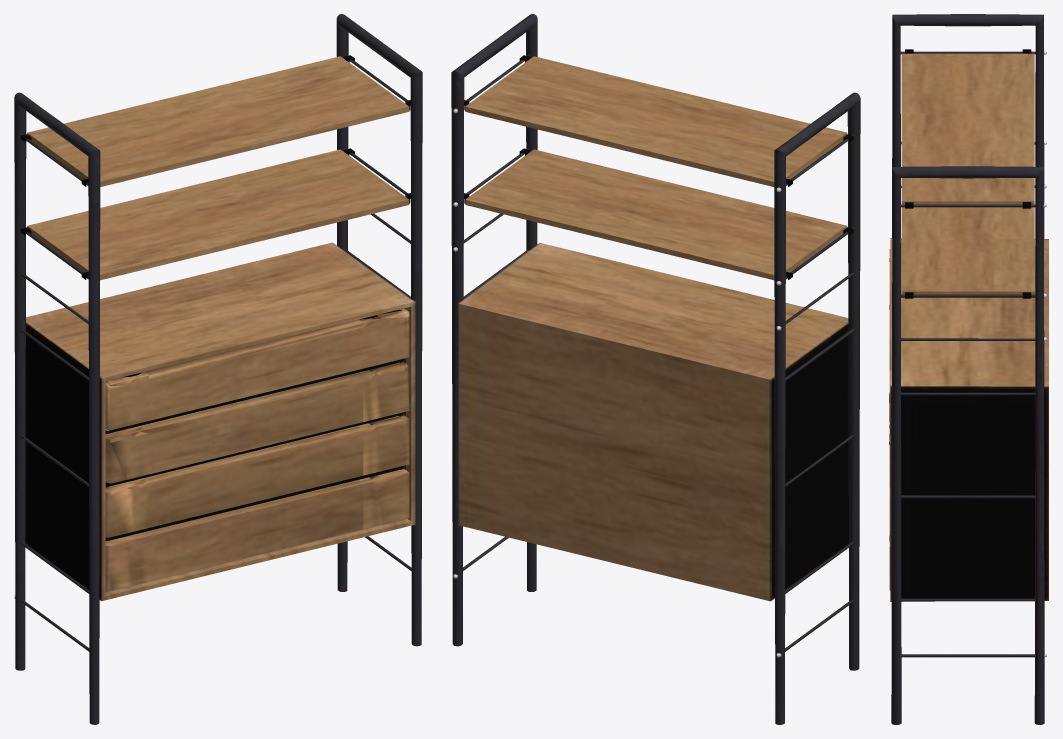
Rendered from drawer_cabinet.glb.
3 renders of one model, left to right at view 1: azimuth 30°, elevation 25°; view 2: azimuth 150°, elevation 25°; view 3: azimuth 270°, elevation 25°, orthographic. The views are drawn at different scales.
Visible parts, largest first — view 1: c09_wood, c11_wood, c19_wood, c17_wood, c12_wood, c15_wood, c10_wood, c07_wood, c08_wood, c03_wood, c06_wood, c02_metal (+4 smaller); view 2: c11_wood, c09_wood, c10_wood, c07_wood, c06_wood, c08_wood, c04_wood, c05_wood; view 3: c09_wood, c10_wood, c11_wood, c06_wood, c07_wood, c05_wood, c04_wood, c08_wood, c03_wood, c12_wood.
Boxes of the visible parts, left/top/right/bottom form: c09_wood: left=20, top=55, right=422, bottom=646; c11_wood: left=26, top=242, right=409, bottom=373; c19_wood: left=105, top=469, right=409, bottom=591; c17_wood: left=105, top=415, right=409, bottom=537; c12_wood: left=105, top=308, right=409, bottom=430; c15_wood: left=105, top=362, right=409, bottom=483; c10_wood: left=25, top=323, right=401, bottom=589; c07_wood: left=14, top=134, right=100, bottom=724; c08_wood: left=14, top=98, right=26, bottom=670; c03_wood: left=99, top=301, right=415, bottom=601; c06_wood: left=336, top=20, right=411, bottom=591; c02_metal: left=105, top=359, right=402, bottom=487; c11_wood: left=458, top=247, right=847, bottom=601; c09_wood: left=463, top=21, right=853, bottom=591; c10_wood: left=770, top=323, right=847, bottom=600; c07_wood: left=776, top=97, right=860, bottom=670; c06_wood: left=451, top=55, right=529, bottom=646; c08_wood: left=774, top=150, right=785, bottom=724; c04_wood: left=453, top=14, right=537, bottom=77; c05_wood: left=775, top=92, right=859, bottom=156; c09_wood: left=890, top=49, right=1035, bottom=724; c10_wood: left=901, top=386, right=1048, bottom=601; c11_wood: left=900, top=238, right=1048, bottom=386; c06_wood: left=900, top=168, right=1046, bottom=724; c07_wood: left=892, top=16, right=1046, bottom=237; c05_wood: left=892, top=14, right=1043, bottom=26; c04_wood: left=892, top=166, right=1043, bottom=178; c08_wood: left=1035, top=16, right=1044, bottom=238; c03_wood: left=890, top=386, right=891, bottom=601; c12_wood: left=889, top=249, right=890, bottom=435.
Size of the model in its own units: 1.14 by 1.88 by 0.4901.
Materials: 1 (1 with a texture image).
